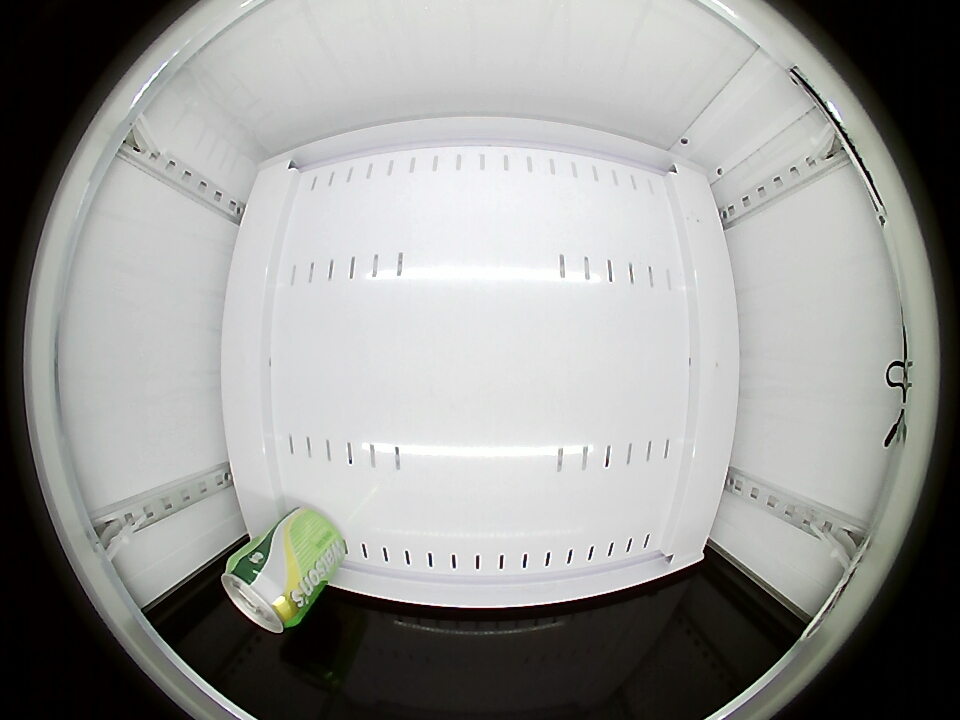quchenshixiangcao: (222, 556, 303, 633)
